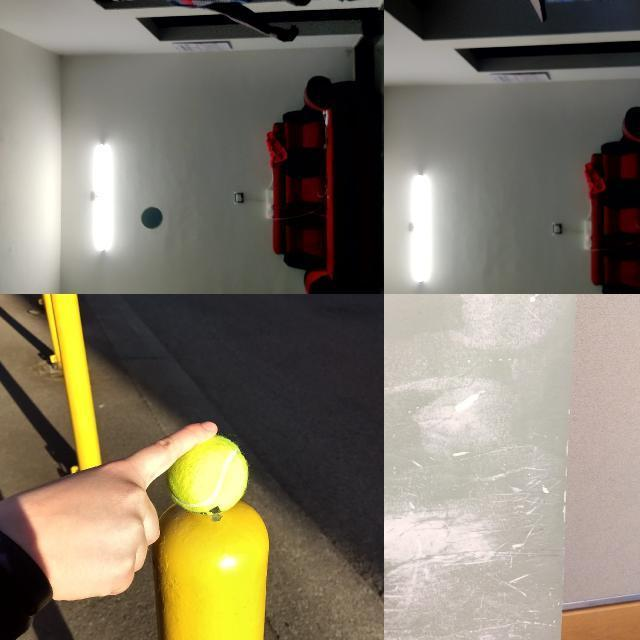tennis-ball: (166, 437, 248, 516), (141, 207, 163, 229)
